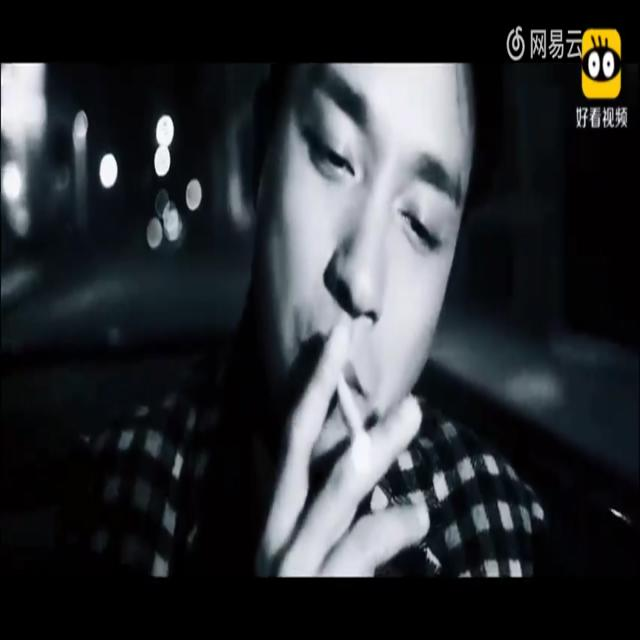cigarette: (335, 370, 373, 462)
